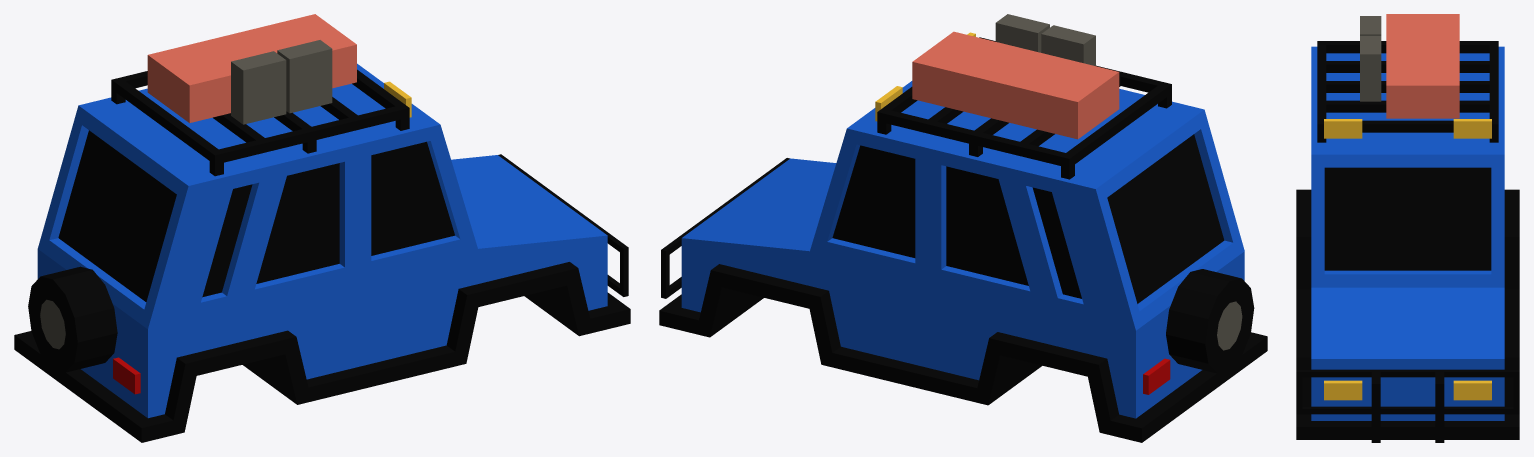
Rendered from CityOffRoadCar_03.fbx.
The picture shows the model from 3 angles, left to right: view 1: azimuth 30°, elevation 25°; view 2: azimuth 150°, elevation 25°; view 3: azimuth 270°, elevation 25°; orthographic projection. The views are drawn at different scales.
Visible parts, largest first — view 1: CityOffRoadCar_03; view 2: CityOffRoadCar_03; view 3: CityOffRoadCar_03.
Part boxes in pixels (box(x1,y1,x2,y2)): CityOffRoadCar_03: box(14, 14, 630, 442); CityOffRoadCar_03: box(659, 14, 1267, 442); CityOffRoadCar_03: box(1296, 14, 1519, 442).
Size of the model in its own units: 0.5791 by 0.3317 by 0.2453.
